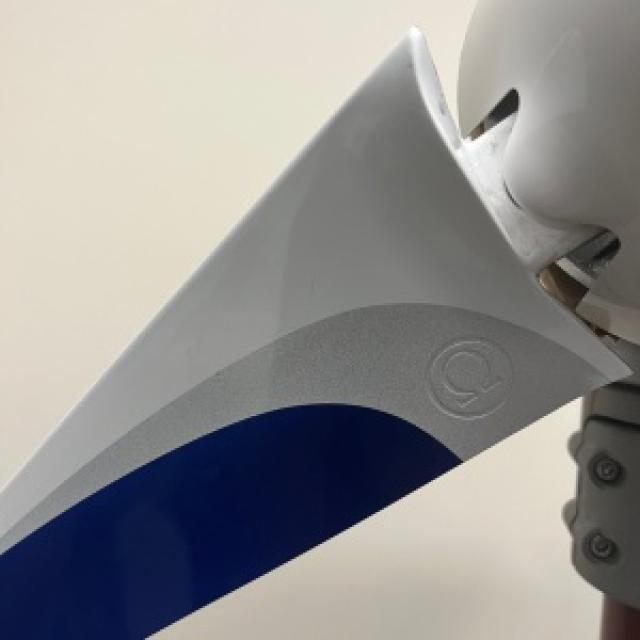healthy: (160, 401, 599, 638)
